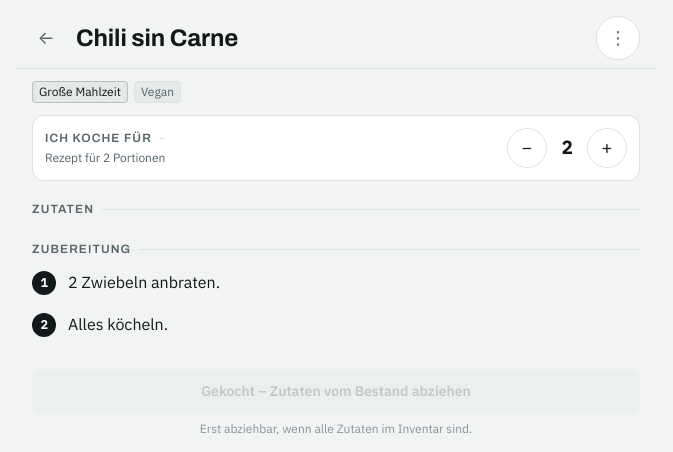
Test case: RecipeDetail › scaling portions › rewrites the instructions for the new portion count without saving them
This screenshot has width=673, height=452.
Click the button named "Mehr Portionen".
click(607, 148)  # box [587,128,627,168]
Wait 700 ms
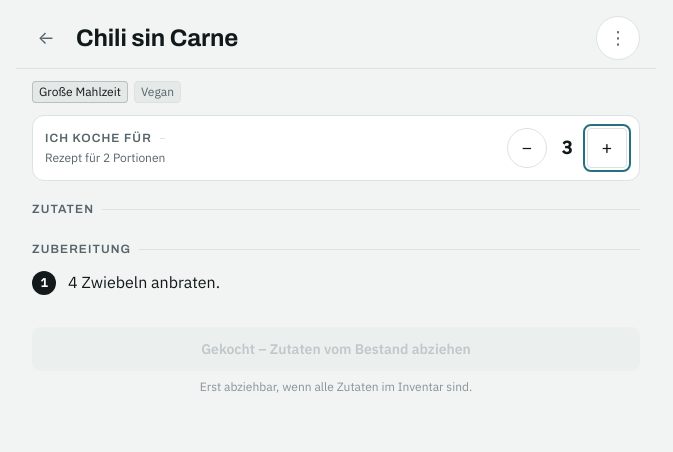
Check: the text "4 Zwiebeln anbraten." is shown, box [68,269,220,295]
